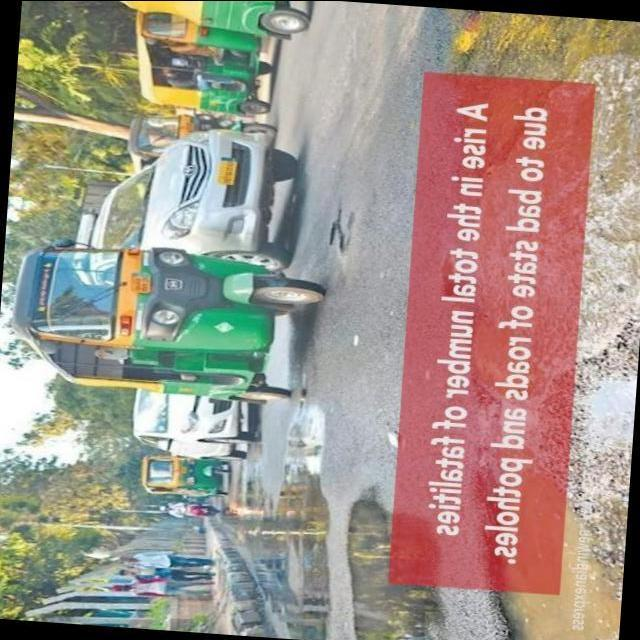pothole: (482, 468, 618, 640), (451, 12, 490, 65), (327, 212, 358, 249)
